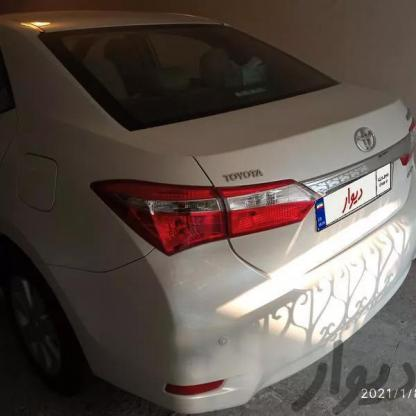Car: (0, 0, 399, 416)
